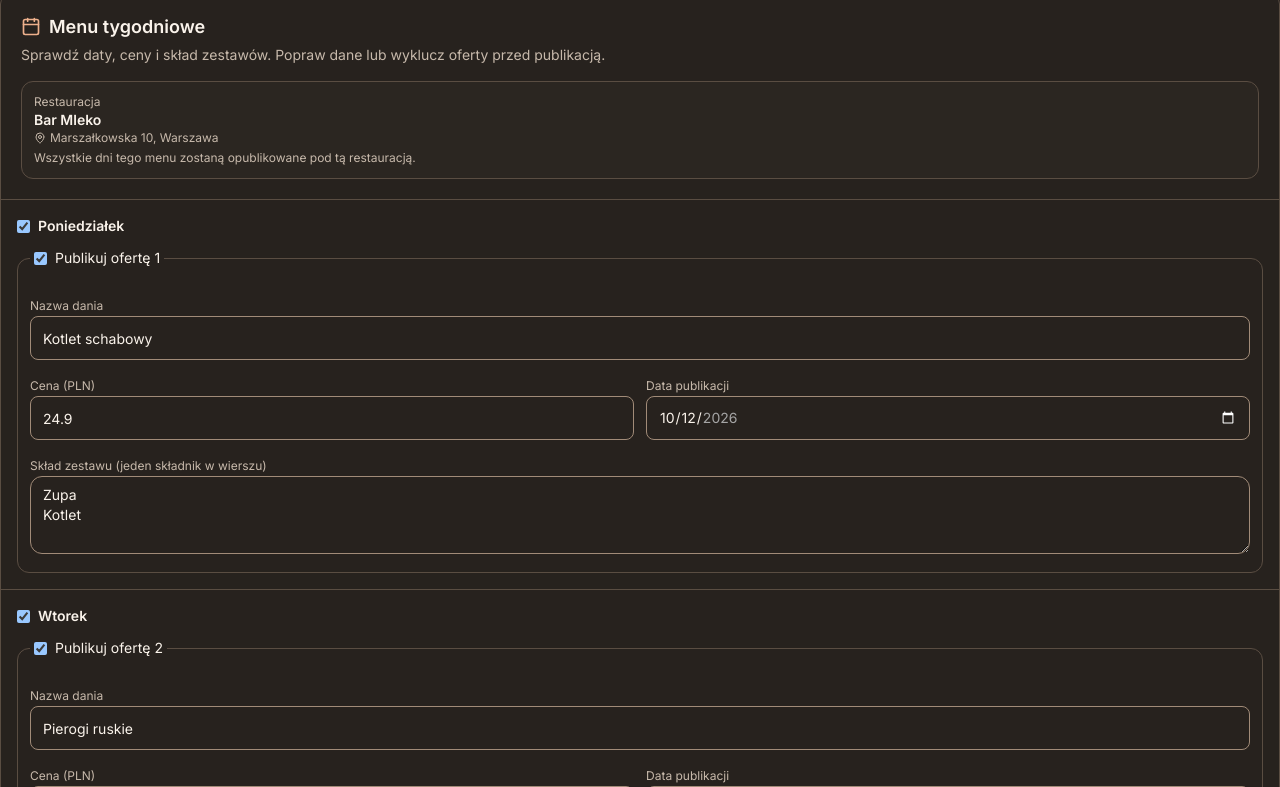
Test: WeeklyMenuPreview: draft review › blocks past dates and allows recovery
This screenshot has width=1280, height=787.
Step 1. Type "2020-01-01" into the 1st date field labelled "Data publikacji" → [948, 418], box 646,396 -> 1250,440
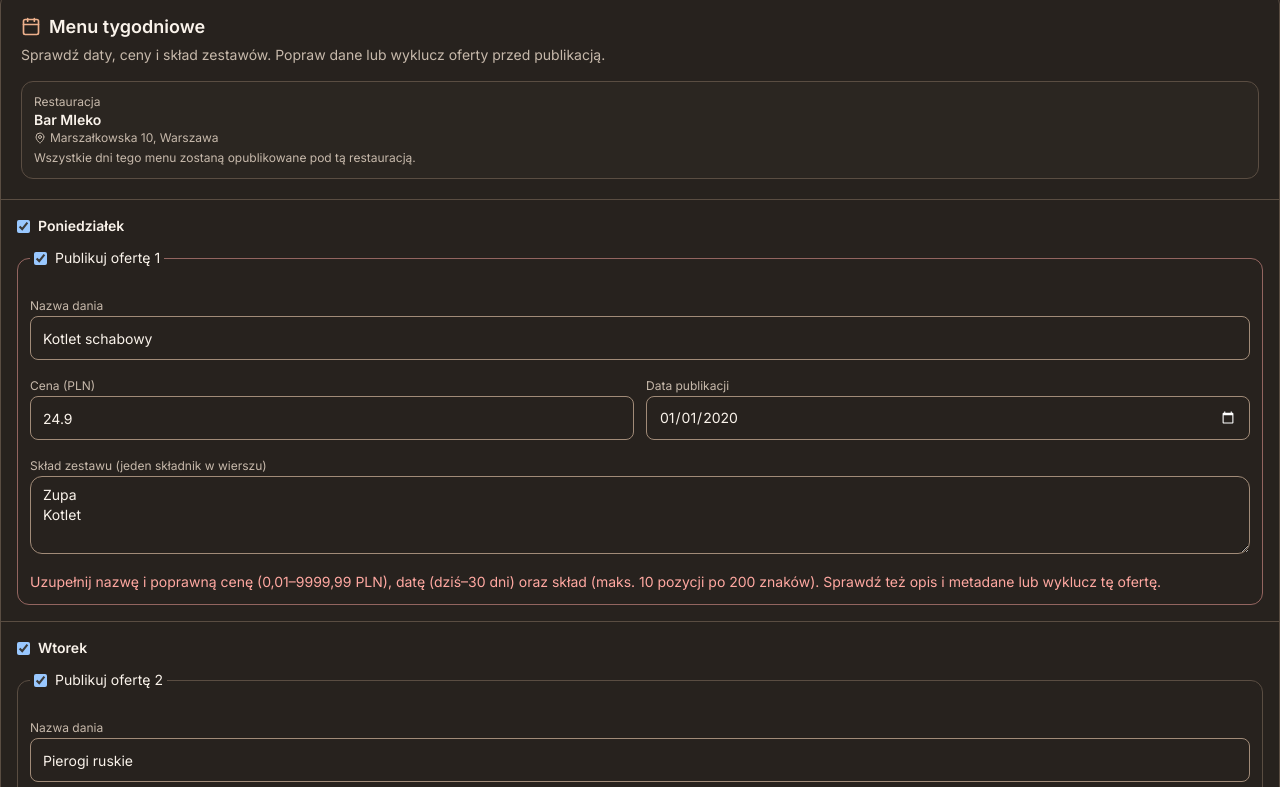
Step 2. Click the checkbox labelled "Publikuj ofertę 1" → [40, 258], box 34,252 -> 47,264
(page scrolled)
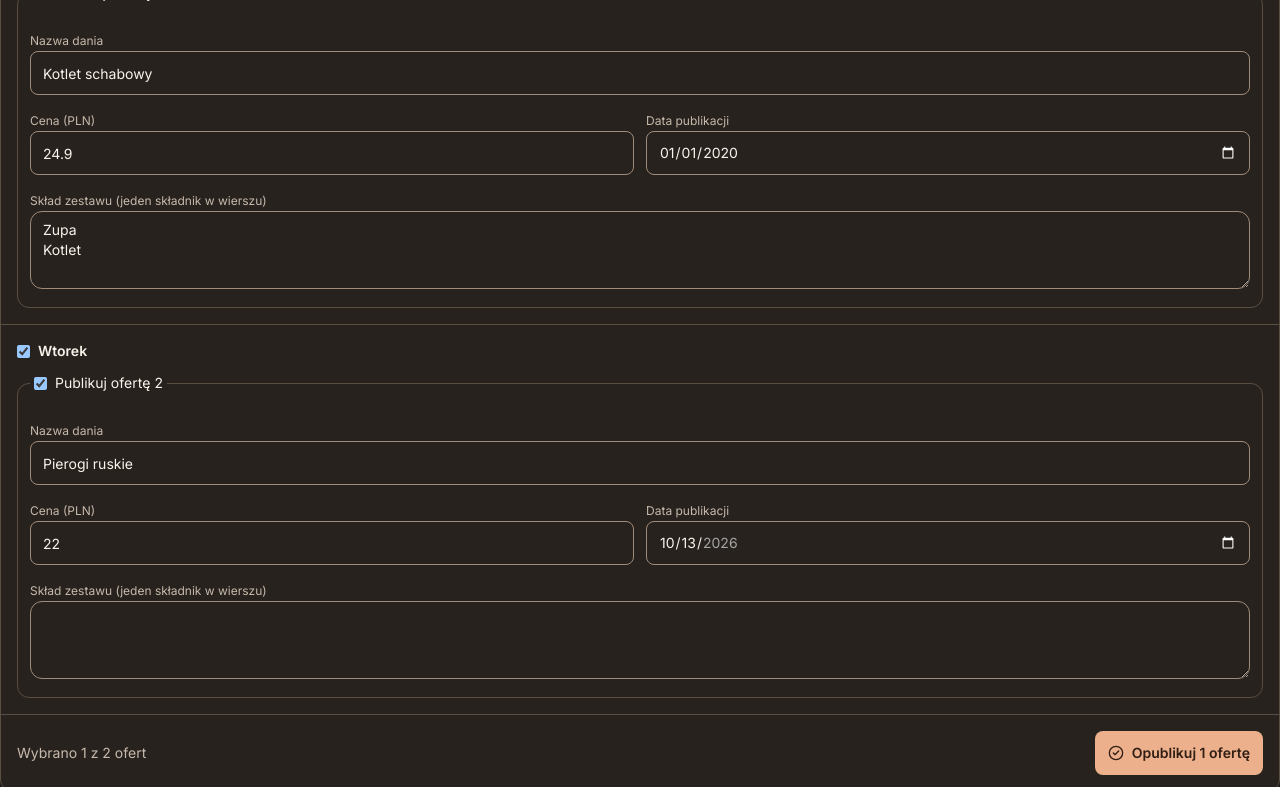
expect the button "Opublikuj 1 ofertę" is enabled: met, box 1095,731 -> 1263,775
